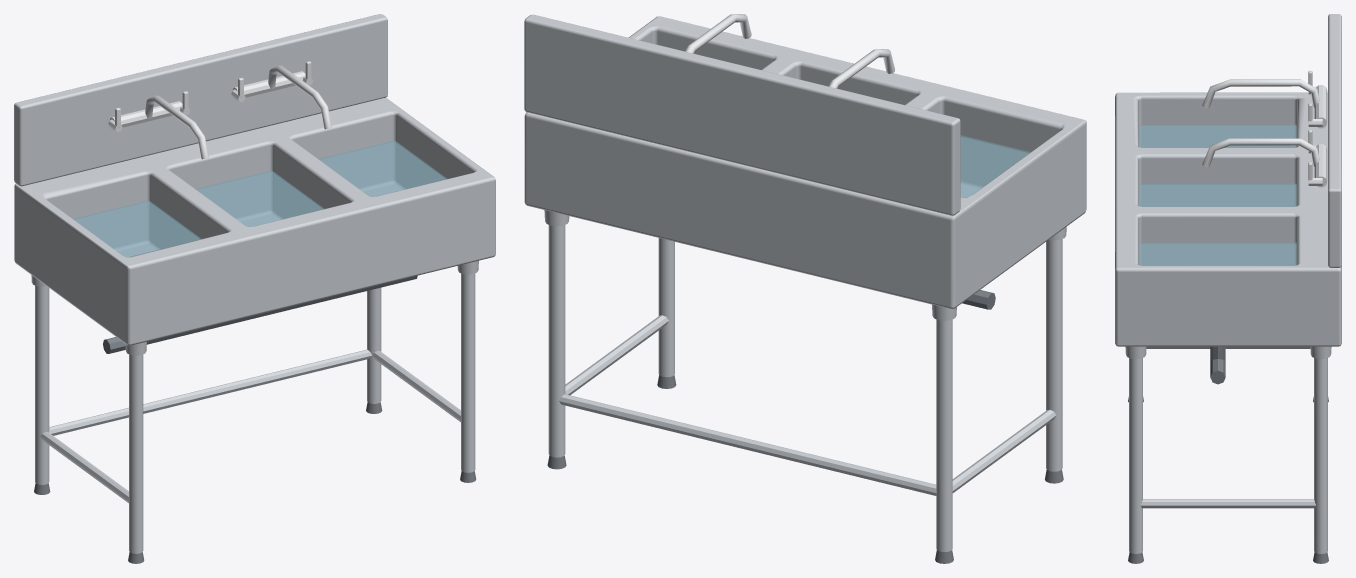
The model's file is sink.glb.
The picture shows the model from 3 angles, left to right: view 1: azimuth 30°, elevation 25°; view 2: azimuth 150°, elevation 25°; view 3: azimuth 270°, elevation 25°; orthographic projection. The views are drawn at different scales.
Visible parts, largest first — view 1: BODY, GLASS; view 2: BODY, GLASS; view 3: BODY, GLASS.
Part boxes in pixels (x1=…): BODY: x1=14, y1=14, x2=495, y2=563; GLASS: x1=73, y1=140, x2=447, y2=256; BODY: x1=524, y1=14, x2=1086, y2=563; GLASS: x1=960, y1=135, x2=1030, y2=196; BODY: x1=1115, y1=14, x2=1341, y2=563; GLASS: x1=1139, y1=124, x2=1296, y2=265.
Bounding box in the file's own units: 1.2 × 1.2 × 0.65.
